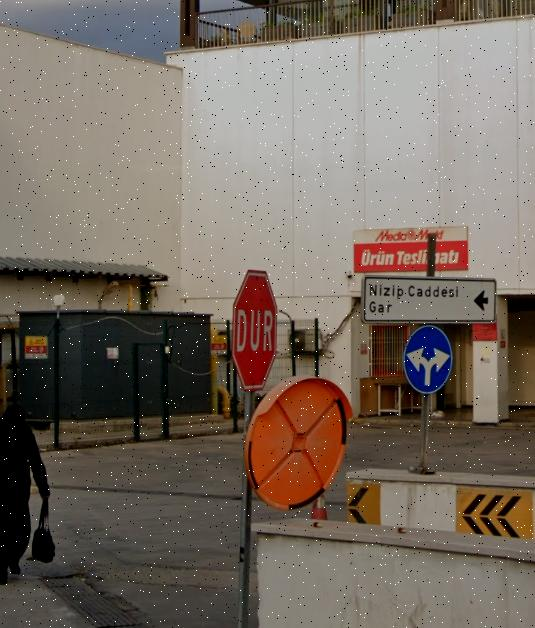stop: (233, 265, 281, 388)
